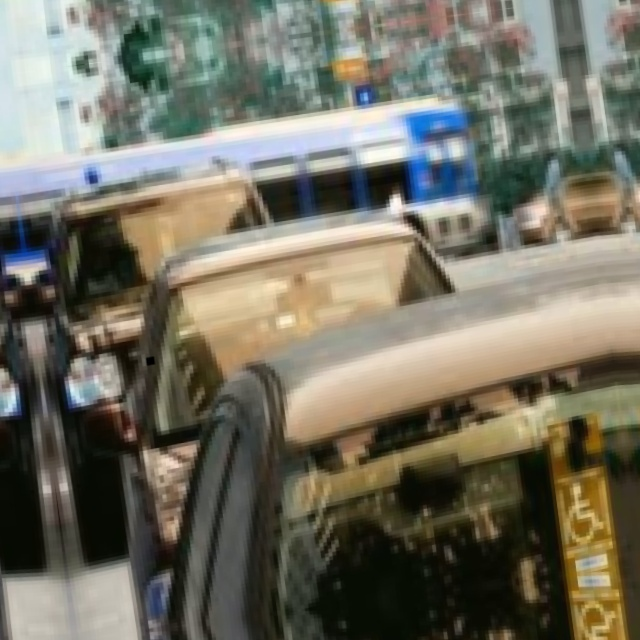ISA: (560, 475, 604, 544), (577, 600, 621, 640)
